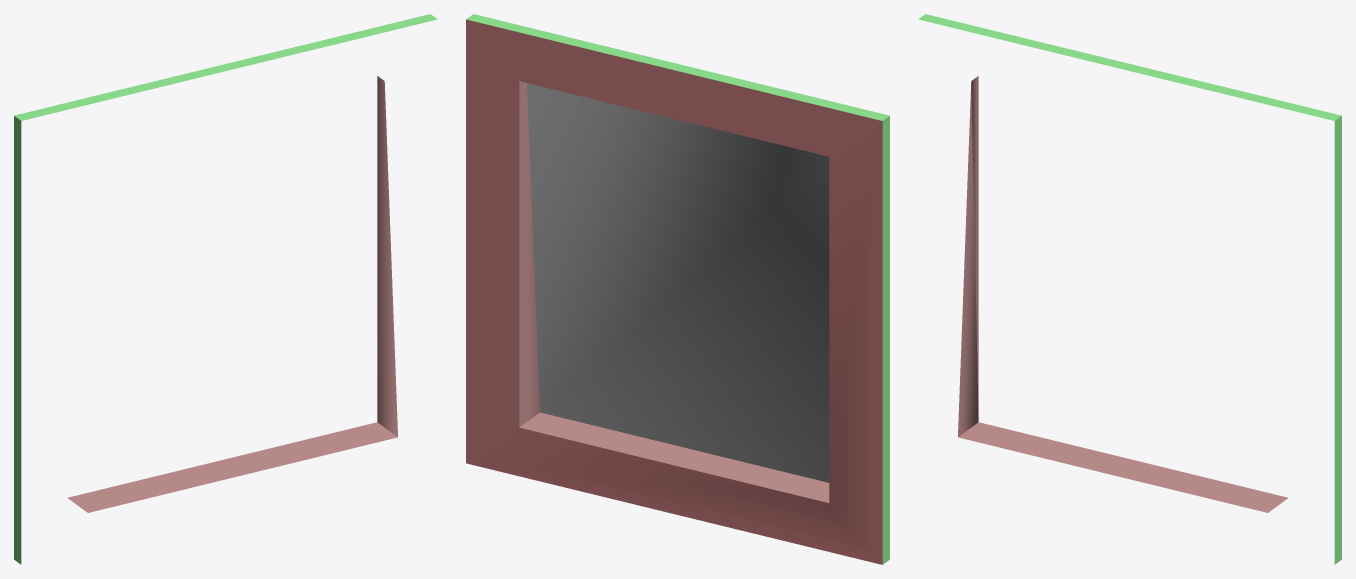
Rendered from sewage_256.gltf.
The picture shows the model from 3 angles, left to right: view 1: azimuth 30°, elevation 25°; view 2: azimuth 150°, elevation 25°; view 3: azimuth 330°, elevation 25°; orthographic projection.
Visible parts, largest first — view 1: sewage_256; view 2: sewage_256; view 3: sewage_256.
Part boxes in pixels (x1,y1,x2,y2): sewage_256: (14,14,437,564); sewage_256: (466,14,889,564); sewage_256: (918,14,1341,564).
Bounding box in the file's own units: 3.24 × 3.3 × 0.28.
